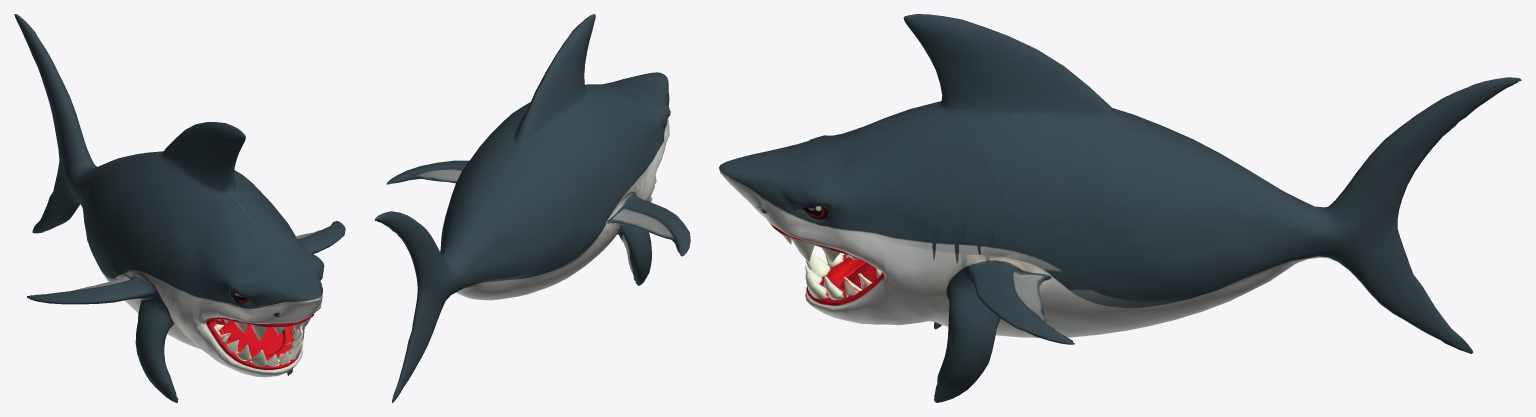
File: shark-great.glb
3 renders of one model, left to right at view 1: azimuth 30°, elevation 25°; view 2: azimuth 150°, elevation 25°; view 3: azimuth 270°, elevation 25°, orthographic. The views are drawn at different scales.
Bounding box in the file's own units: 0.5718 × 0.4629 × 0.9556.
1 material, 1 textured.
